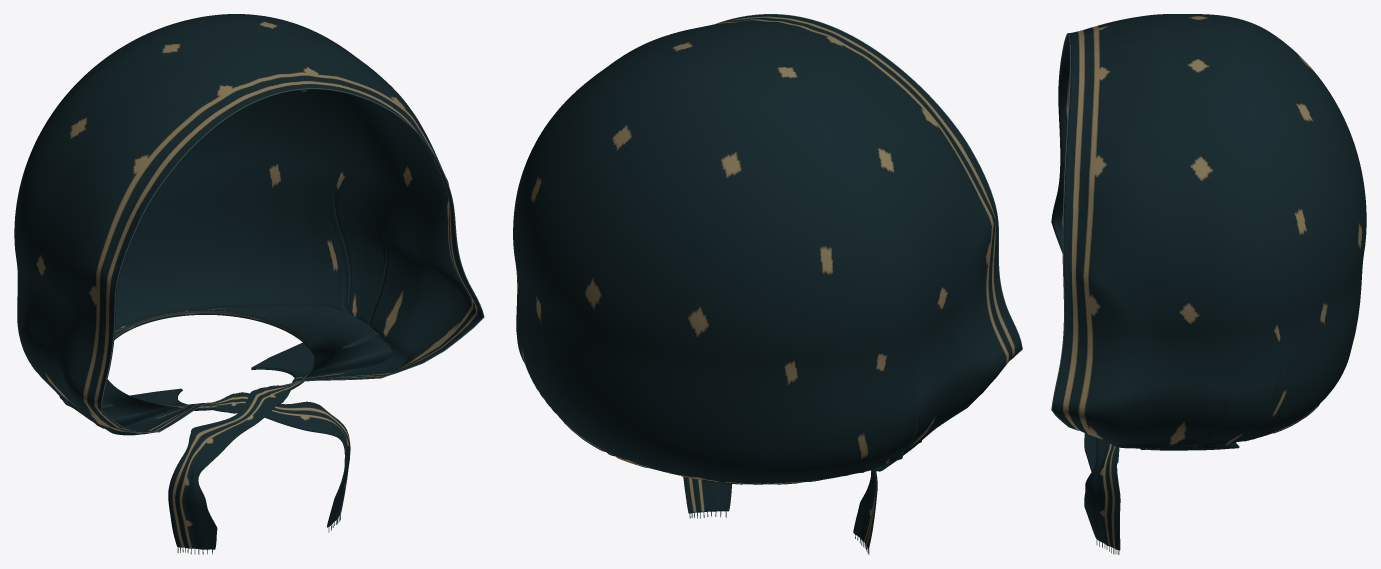
The model's file is Feminine-curls-jersey-pashmina250-headgear.glb.
3 views of the same model, side by side, from view 1: azimuth 30°, elevation 25°; view 2: azimuth 150°, elevation 25°; view 3: azimuth 270°, elevation 25° (orthographic). The views are drawn at different scales.
Visible parts, largest first — view 1: 226 headgear / Headwear / continuous woven pashmina239, 226 headgear / Headwear / face edge239; view 2: 226 headgear / Headwear / continuous woven pashmina239, 226 headgear / Headwear / face edge239; view 3: 226 headgear / Headwear / continuous woven pashmina239, 226 headgear / Headwear / face edge239.
Part boxes in pixels (x1,y1,x2,y2): 226 headgear / Headwear / continuous woven pashmina239: [14, 14, 483, 549]; 226 headgear / Headwear / face edge239: [100, 88, 484, 432]; 226 headgear / Headwear / continuous woven pashmina239: [513, 14, 1022, 548]; 226 headgear / Headwear / face edge239: [716, 14, 1022, 360]; 226 headgear / Headwear / continuous woven pashmina239: [1051, 14, 1366, 550]; 226 headgear / Headwear / face edge239: [1051, 33, 1078, 430].
Size of the model in its own units: 1.2 by 1.4 by 0.833.
Materials: 3 (1 with a texture image).
